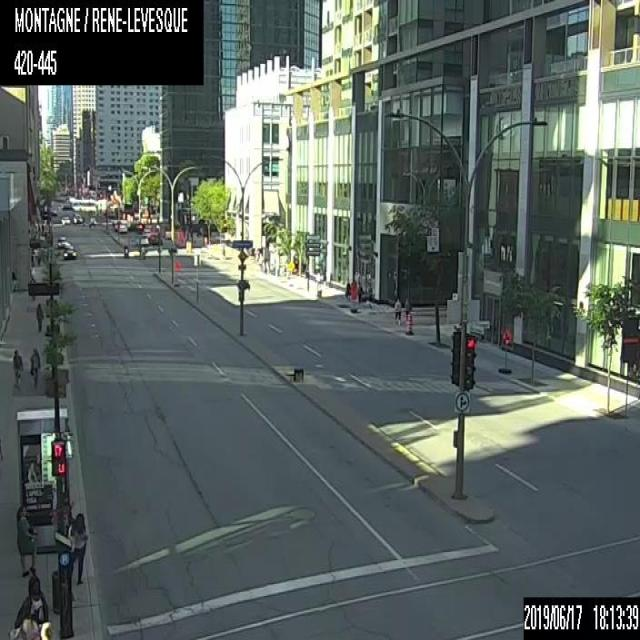construction: (498, 326, 512, 373), (284, 365, 304, 383), (349, 282, 356, 312), (406, 313, 414, 335), (174, 260, 180, 286)
pedestrian: (8, 575, 52, 639), (15, 502, 37, 575), (69, 510, 87, 586), (11, 346, 23, 391), (29, 348, 39, 387), (391, 292, 401, 328), (36, 300, 44, 332), (403, 295, 411, 320), (344, 282, 350, 304), (357, 280, 362, 303)
vehicle: (62, 248, 76, 259), (149, 234, 162, 244), (137, 234, 148, 245), (118, 221, 128, 232), (72, 213, 83, 223), (56, 236, 66, 247), (59, 215, 69, 224)
